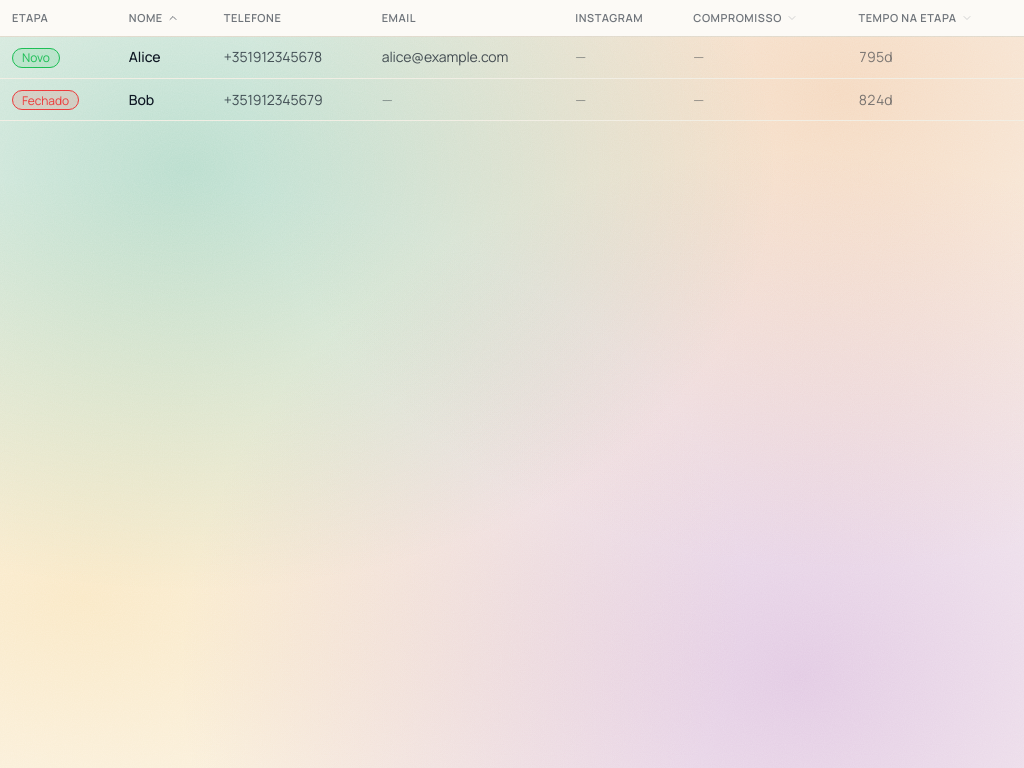
Scenario: LeadListView › row click opens modal
The image size is (1024, 768).
Expected: the text "Alice" is shown, [117,36,212,78]
Click the text "Alice" at (512,57), box [0,36,1023,78]
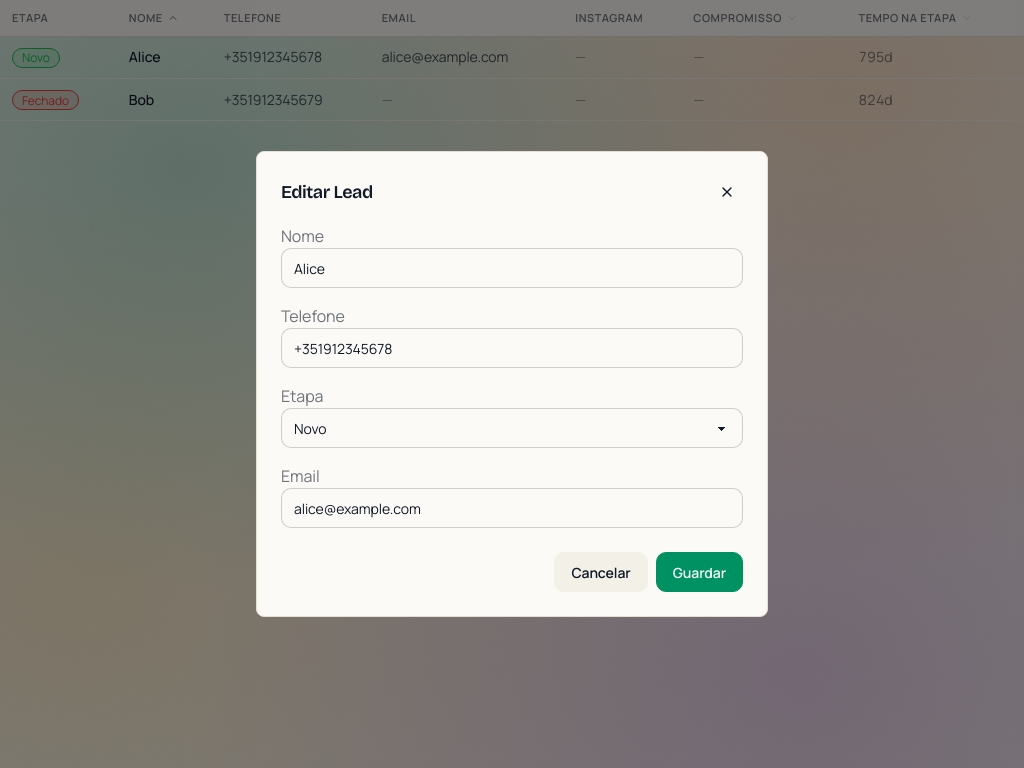
Expected: the dialog is shown, [256,151,768,617]
